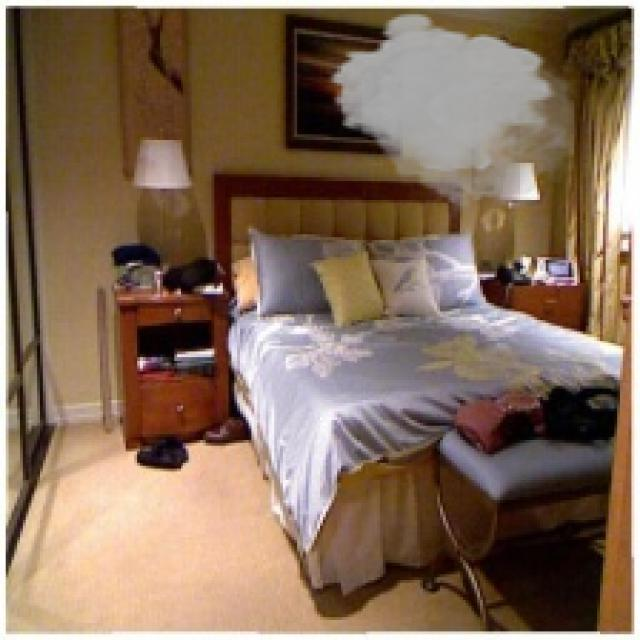Smoke: (326, 12, 574, 215)
